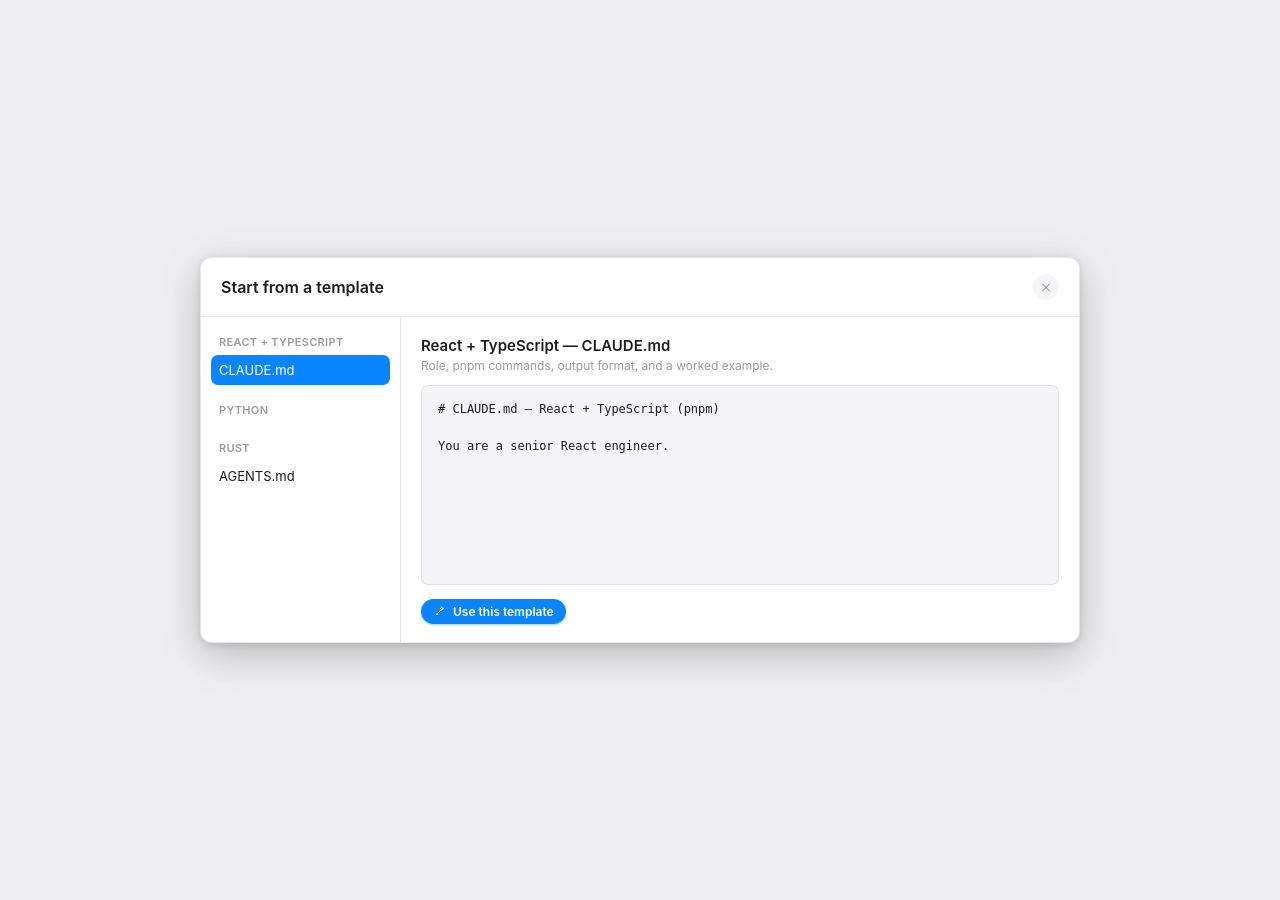
Scenario: TemplatePicker — not entitled (payments paused) › applies the template when not entitled, because payments are paused
Click the button "Use this template". click: (493, 611)
box: [421, 599, 566, 624]
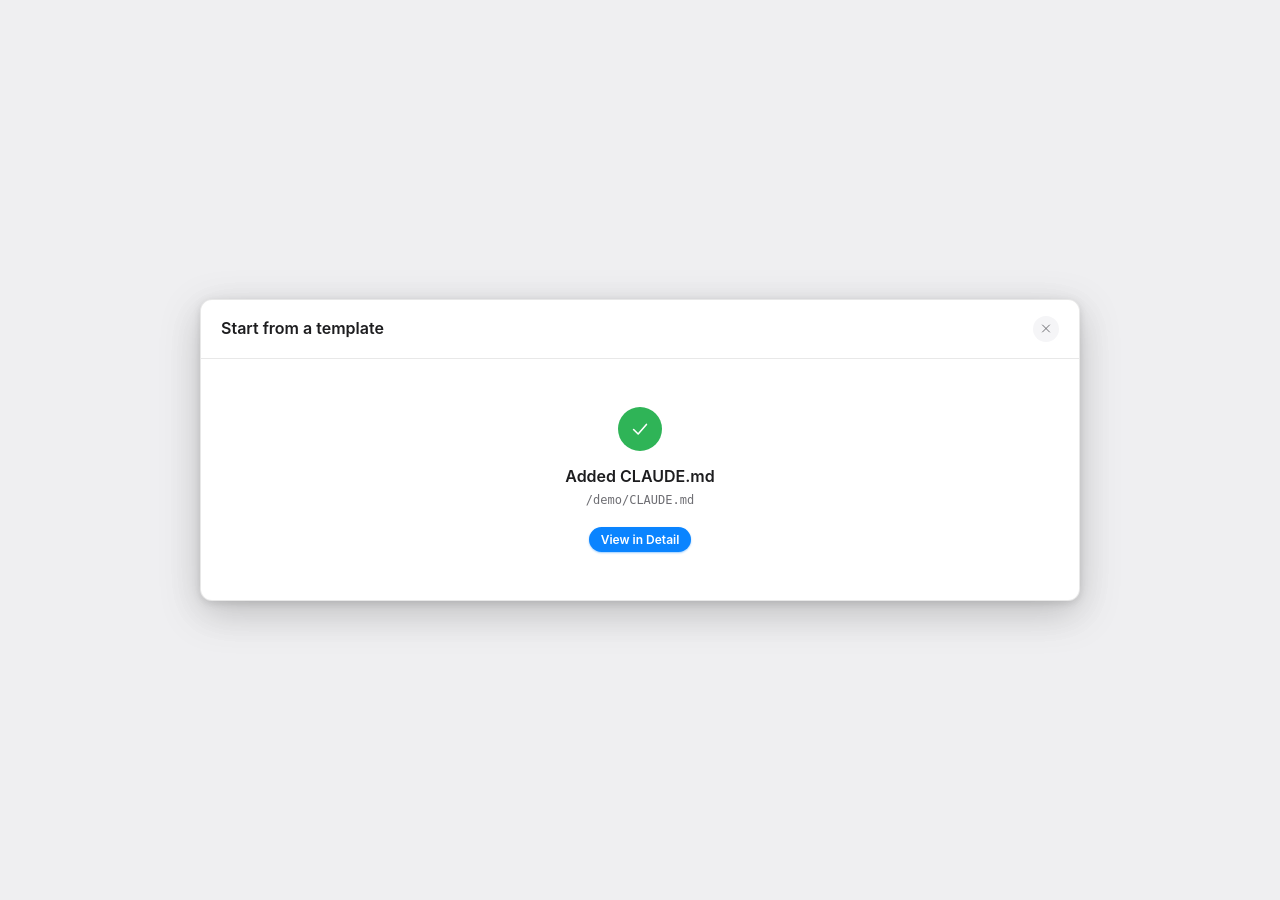
expect the text "Added CLAUDE.md" is shown: met, box [565, 465, 715, 488]
